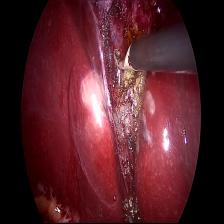Hook: (112, 41, 138, 83)
